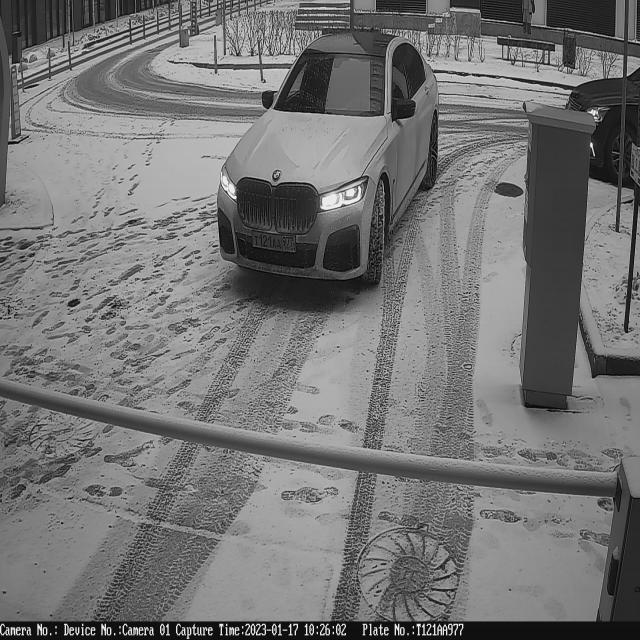car-plate-numbers: (249, 225, 301, 259)
